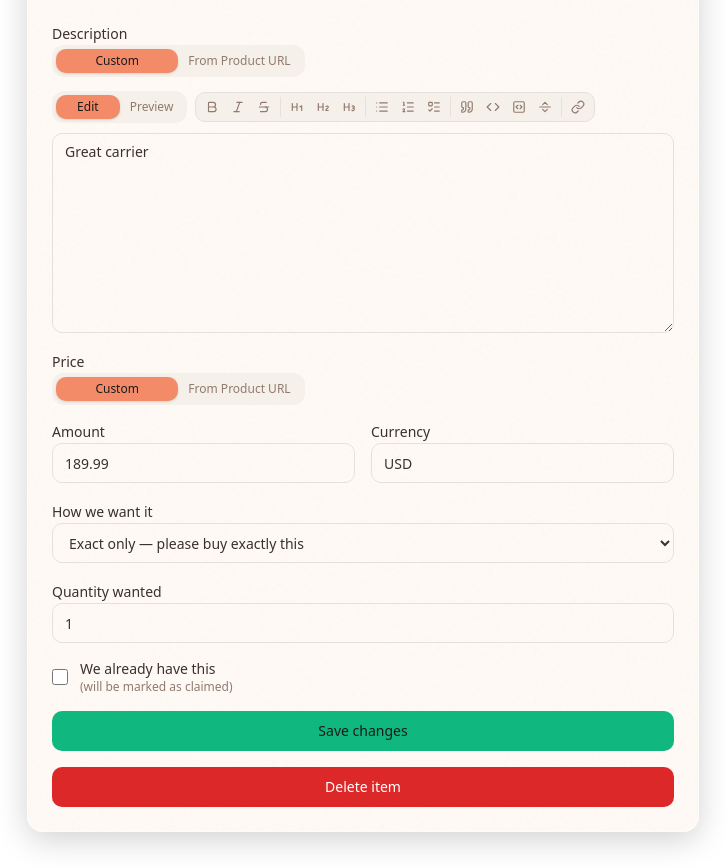
Test case: EditItemPage › restores quantity to 1 when discard button is clicked
(page scrolled)
Replace the text in the number field labelled "Quantity wanted" with "0" at (363, 623), box 52,603 -> 674,643
(page scrolled)
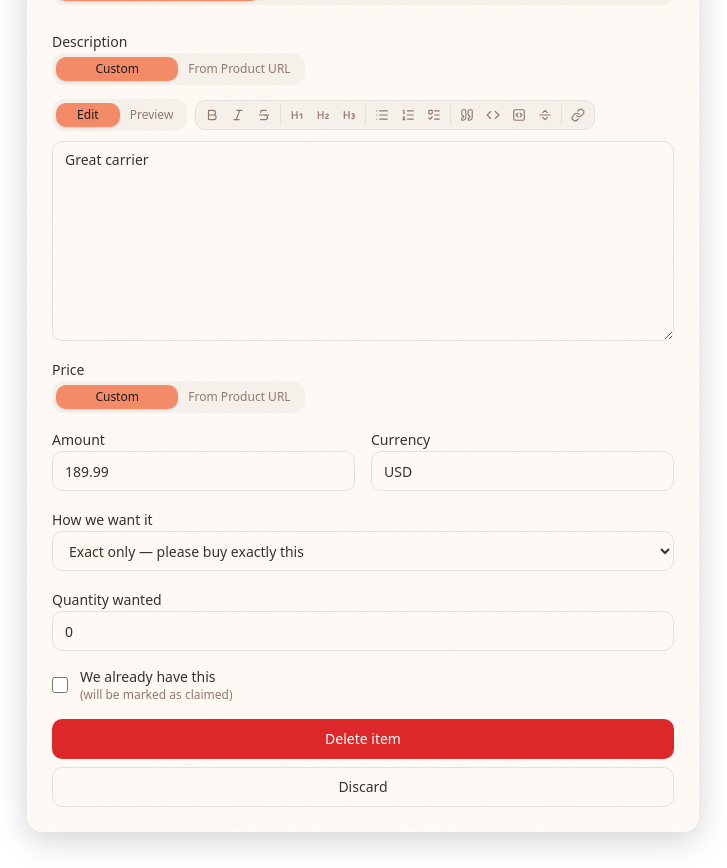
Click the button "Discard" at (363, 787), box 52,767 -> 674,807
(page scrolled)
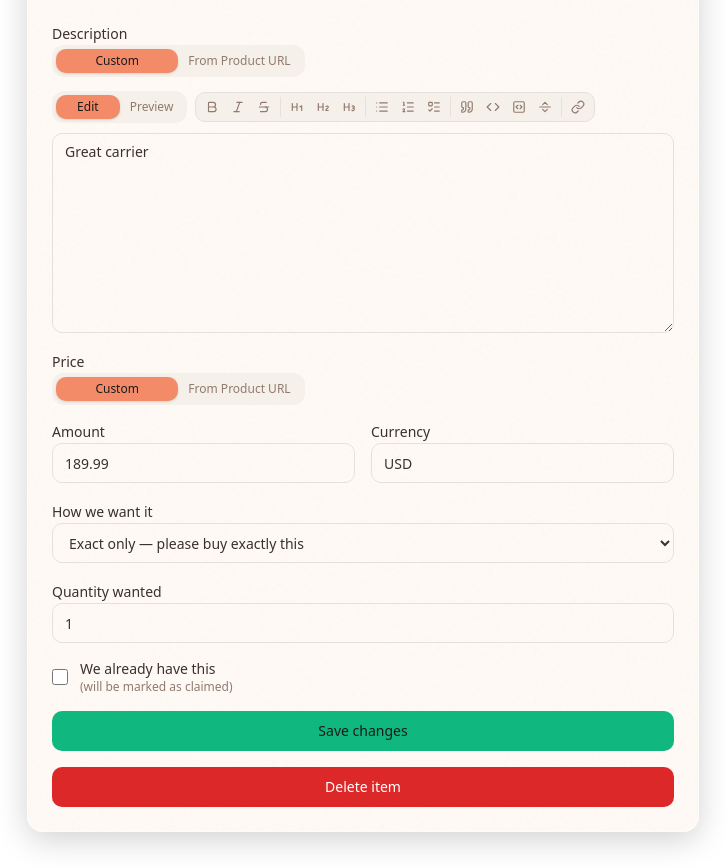
Now the number field labelled "Quantity wanted" holds "1", box 52,603 -> 674,643
Now the button "Save changes" is shown, box 52,711 -> 674,751
Now the button "Delete item" is shown, box 52,767 -> 674,807
